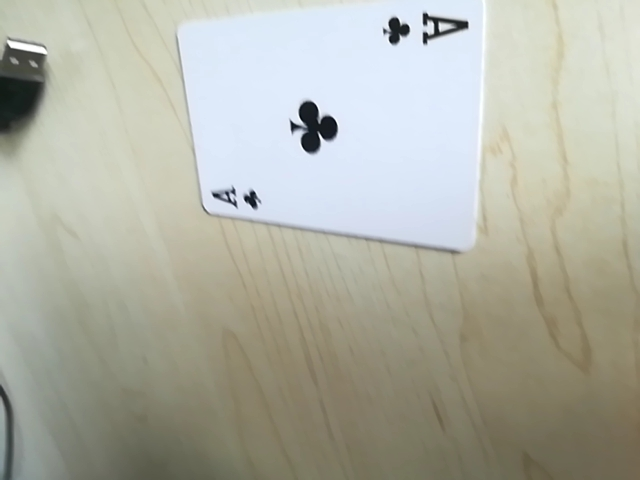mh a: (380, 3, 471, 57), (204, 175, 266, 218)
